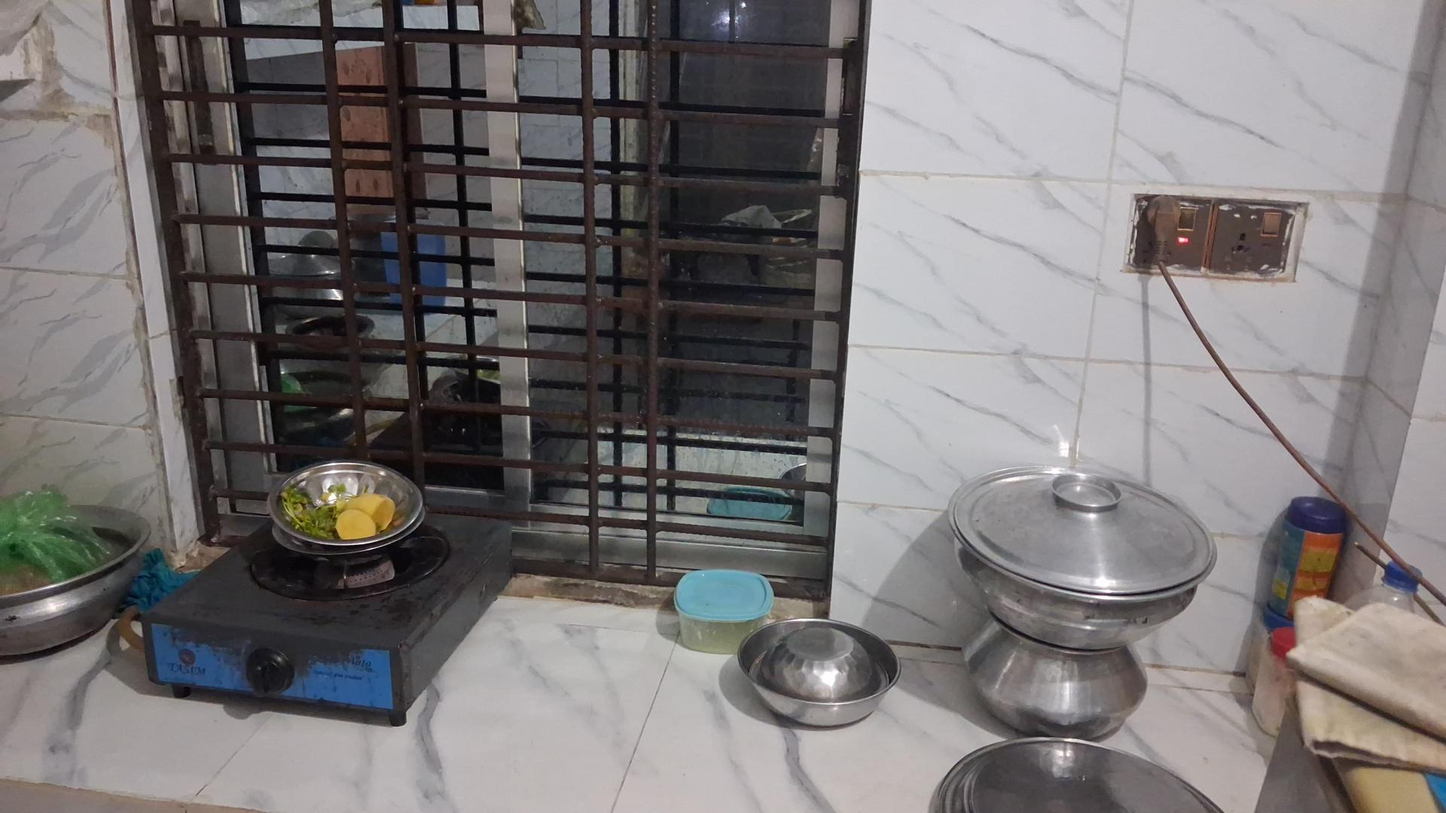Bowl: (736, 618, 901, 730), (268, 462, 425, 561)
Food: (297, 468, 396, 546)
Jar: (1272, 487, 1350, 611), (673, 568, 775, 655)
Pot: (942, 468, 1222, 652), (0, 493, 153, 660), (966, 617, 1143, 746)
